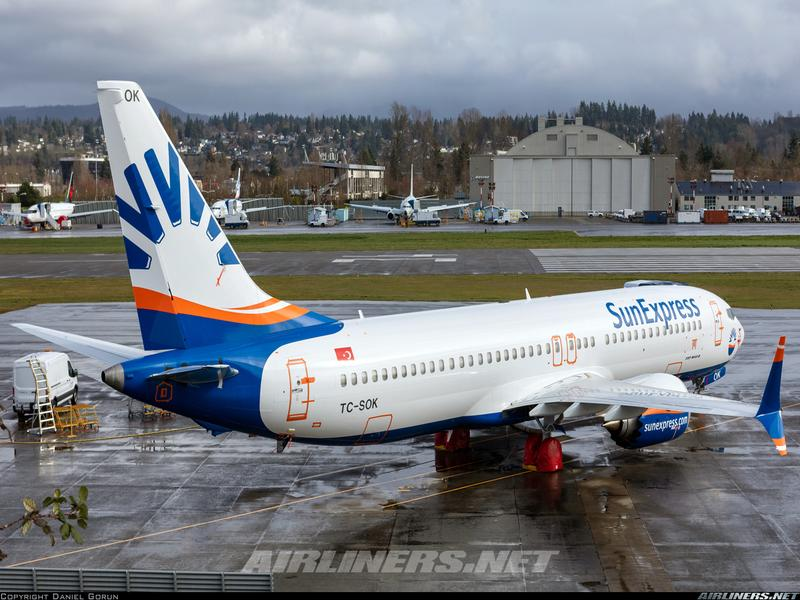737-MAX: (9, 79, 795, 476)
